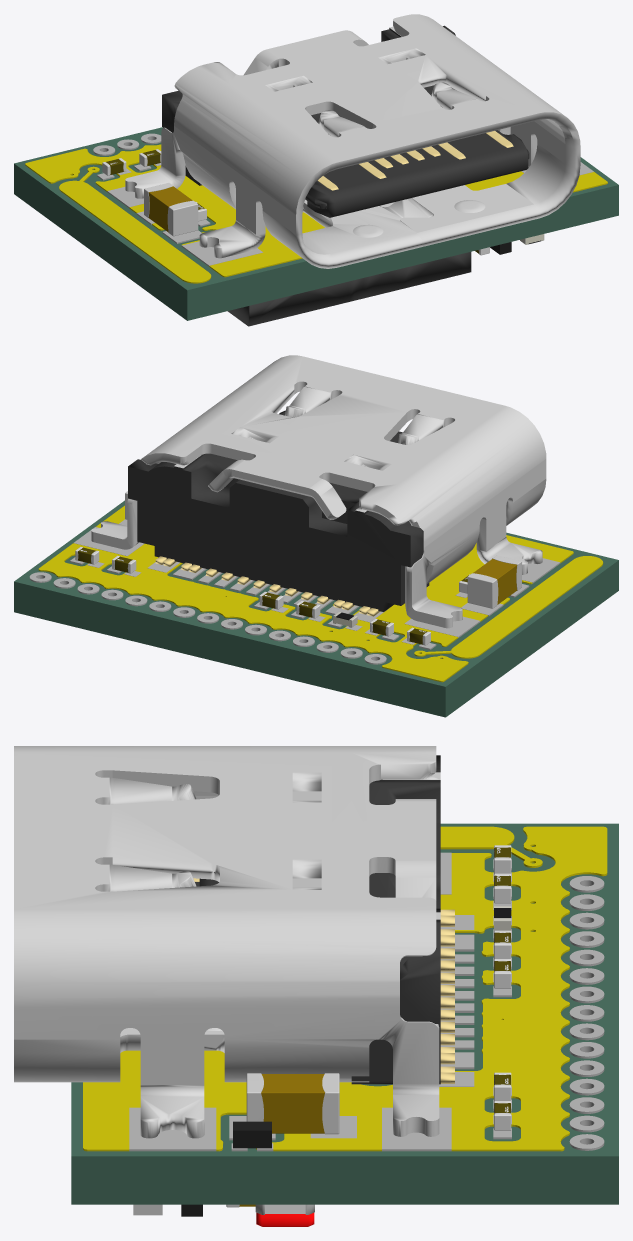
The model's file is meenie.glb.
3 views of the same model, one above another, from view 1: azimuth 30°, elevation 25°; view 2: azimuth 150°, elevation 25°; view 3: azimuth 270°, elevation 25° (orthographic). The views are drawn at different scales.
Parts seen in each view (by area): view 1: =>[0:1:1:5], =>[0:1:1:33], =>[0:1:1:30], =>[0:1:1:25], =>[0:1:1:31], =>[0:1:1:12]; view 2: =>[0:1:1:5], =>[0:1:1:33], =>[0:1:1:30], =>[0:1:1:31], =>[0:1:1:12]; view 3: =>[0:1:1:5], =>[0:1:1:33], =>[0:1:1:30], =>[0:1:1:31], =>[0:1:1:12], =>[0:1:1:27], DFN0603-2L_generic_max (Shell).
Boxes of the visible parts, x1=… form: =>[0:1:1:5]: x1=125, y1=14, x2=580, y2=268; =>[0:1:1:33]: x1=14, y1=127, x2=618, y2=320; =>[0:1:1:30]: x1=25, y1=144, x2=607, y2=283; =>[0:1:1:25]: x1=227, y1=252, x2=471, y2=326; =>[0:1:1:31]: x1=93, y1=133, x2=593, y2=266; =>[0:1:1:12]: x1=144, y1=183, x2=198, y2=236; =>[0:1:1:5]: x1=91, y1=355, x2=546, y2=628; =>[0:1:1:33]: x1=14, y1=500, x2=618, y2=717; =>[0:1:1:30]: x1=38, y1=505, x2=603, y2=682; =>[0:1:1:31]: x1=29, y1=519, x2=560, y2=664; =>[0:1:1:12]: x1=467, y1=555, x2=521, y2=608; =>[0:1:1:5]: x1=14, y1=746, x2=454, y2=1138; =>[0:1:1:33]: x1=71, y1=823, x2=618, y2=1204; =>[0:1:1:30]: x1=83, y1=826, x2=607, y2=1151; =>[0:1:1:31]: x1=129, y1=852, x2=604, y2=1151; =>[0:1:1:12]: x1=246, y1=1073, x2=339, y2=1134; =>[0:1:1:27]: x1=255, y1=1204, x2=314, y2=1226; DFN0603-2L_generic_max (Shell): x1=233, y1=1121, x2=271, y2=1148.
Size of the model in its own units: 0.0136 by 0.00515 by 0.0104.
